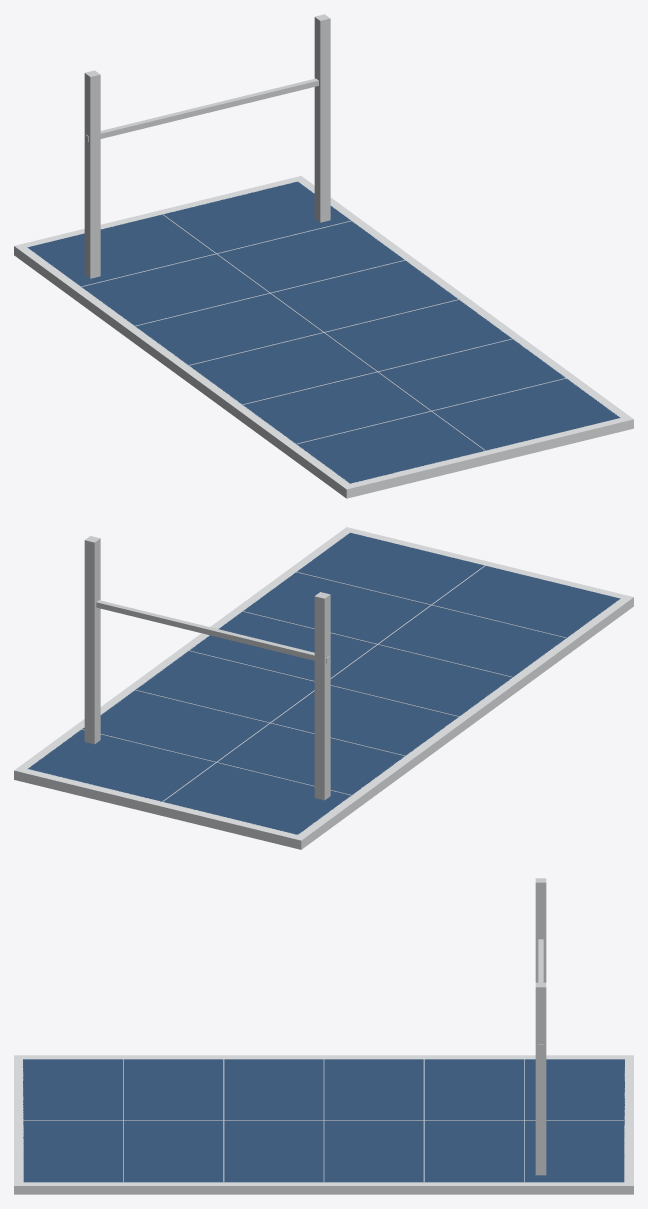
The model's file is SOL-WAA-BI55-545.glb.
3 views of the same model, one above another, from view 1: azimuth 30°, elevation 25°; view 2: azimuth 150°, elevation 25°; view 3: azimuth 270°, elevation 25° (orthographic). The views are drawn at different scales.
Visible parts, largest first — view 1: SOL-WAA-BI55-545; view 2: SOL-WAA-BI55-545; view 3: SOL-WAA-BI55-545.
Part boxes in pixels (x1=…): SOL-WAA-BI55-545: x1=14, y1=14, x2=633, y2=498; SOL-WAA-BI55-545: x1=14, y1=527, x2=633, y2=849; SOL-WAA-BI55-545: x1=14, y1=878, x2=633, y2=1194.
Size of the model in its own units: 1.13 by 0.7952 by 2.27.
